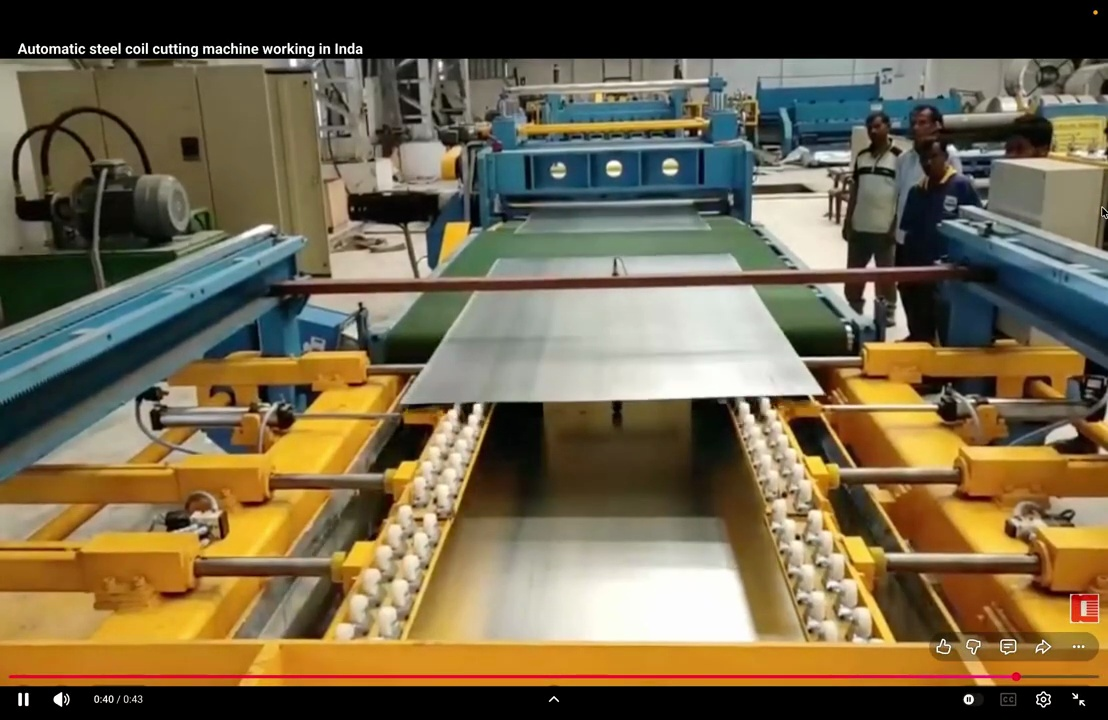steel plate: (403, 287, 820, 404), (516, 203, 708, 233)
